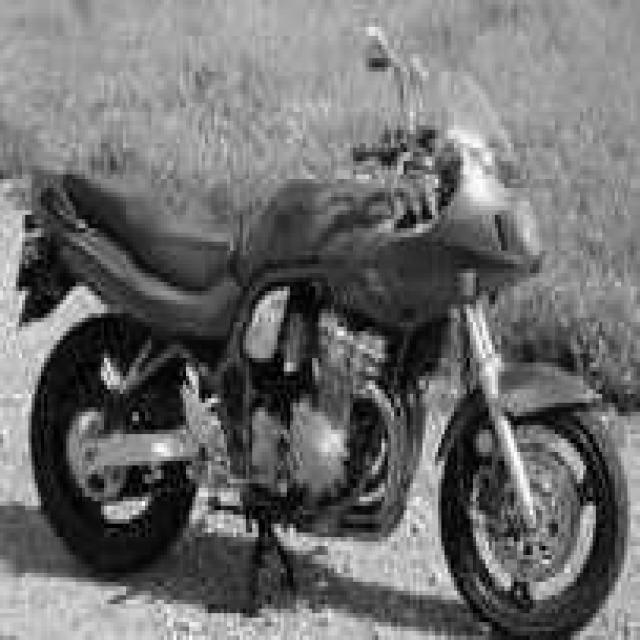Motorcycle: (21, 76, 625, 634)
